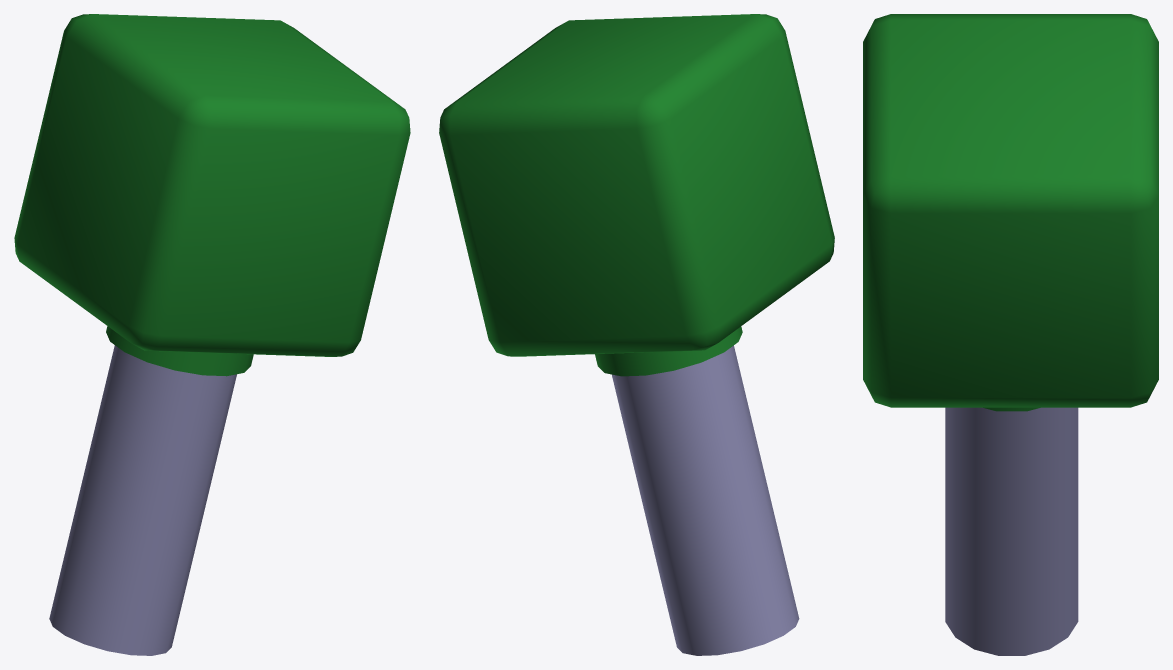
File: Treader_UpperArm.fbx
3 renders of one model, left to right at view 1: azimuth 30°, elevation 25°; view 2: azimuth 150°, elevation 25°; view 3: azimuth 270°, elevation 25°, orthographic. The views are drawn at different scales.
Visible parts, largest first — view 1: Treader_UpperArm; view 2: Treader_UpperArm; view 3: Treader_UpperArm.
Part boxes in pixels (bbox=[...]): Treader_UpperArm: bbox=[14, 14, 410, 655]; Treader_UpperArm: bbox=[439, 14, 834, 655]; Treader_UpperArm: bbox=[863, 14, 1158, 655].
Bounding box in the file's own units: 0.2225 × 0.4236 × 0.1805.
